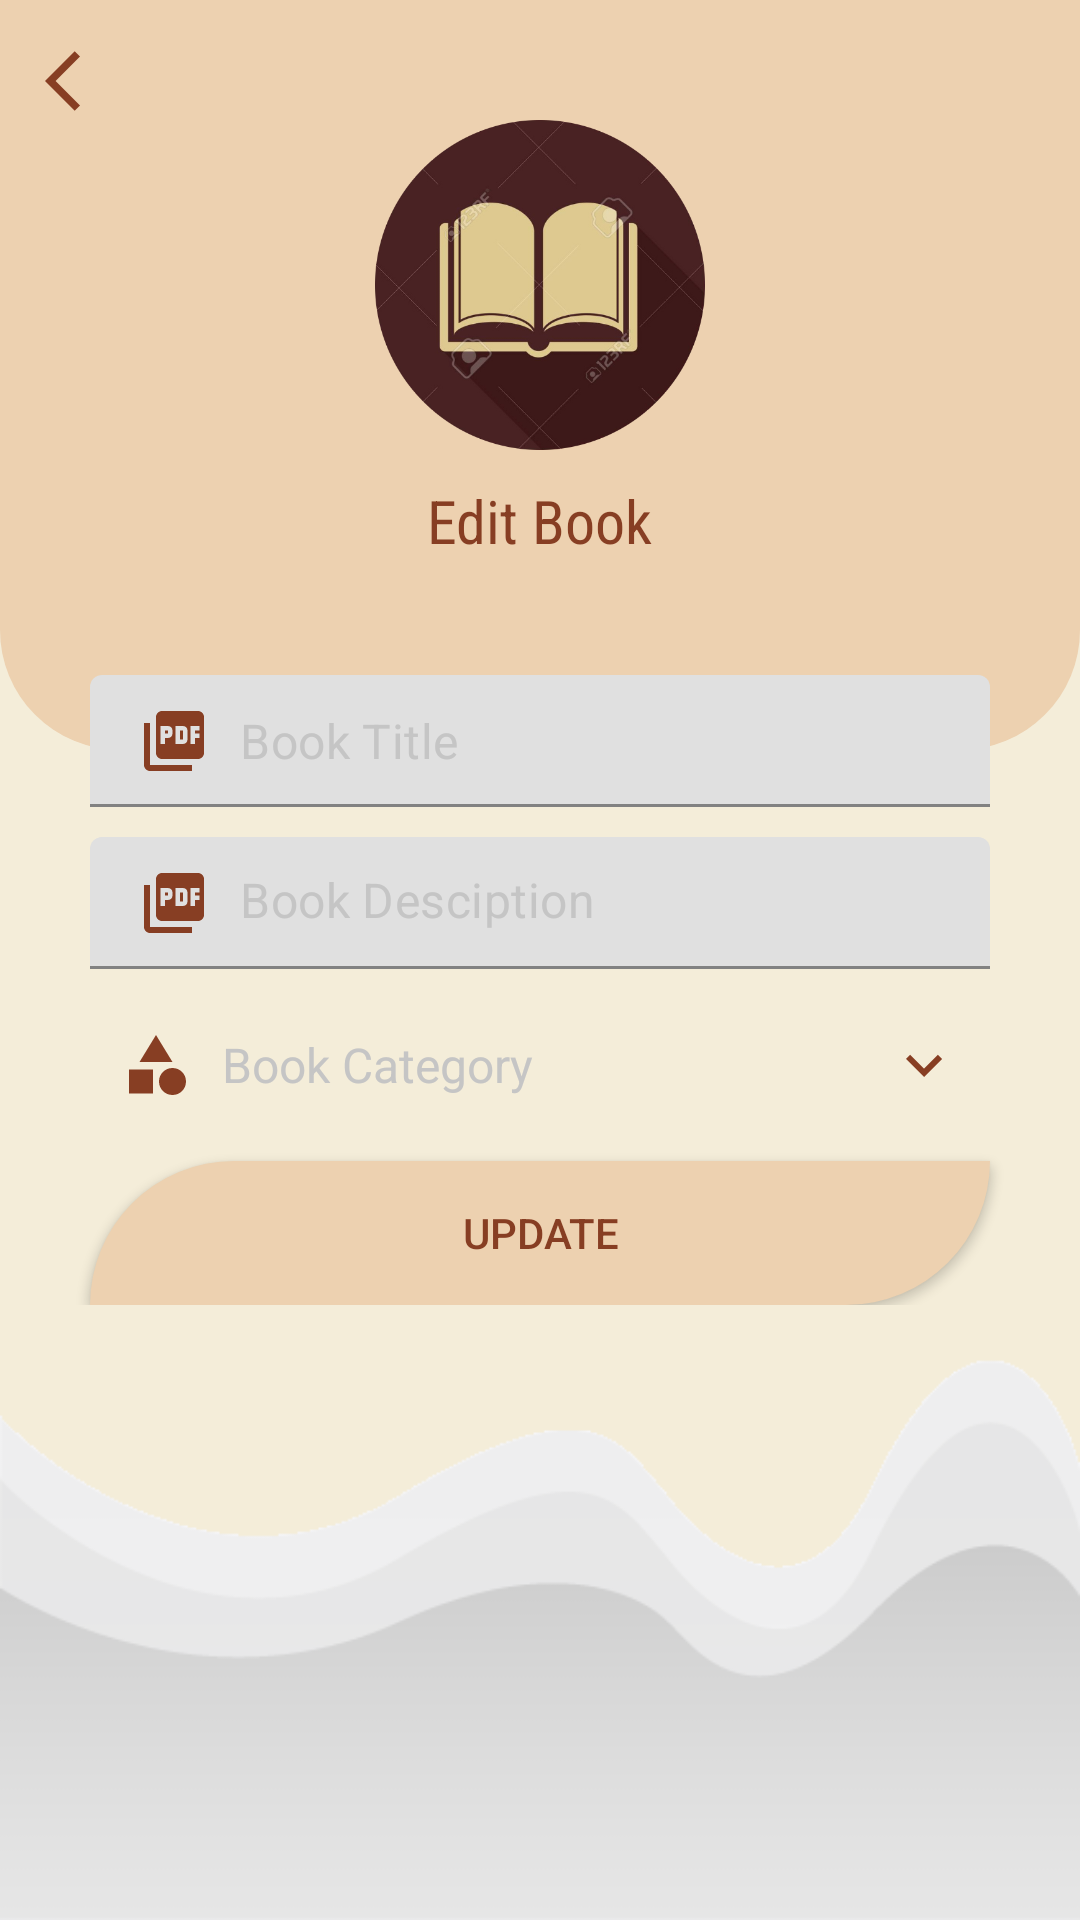

Icons on this 1080*1920 Android screen, each with its box as {"left": x1, "top": y1, "right": x2, "bottom": y2}:
arrow back: {"left": 45, "top": 51, "right": 80, "bottom": 111}
